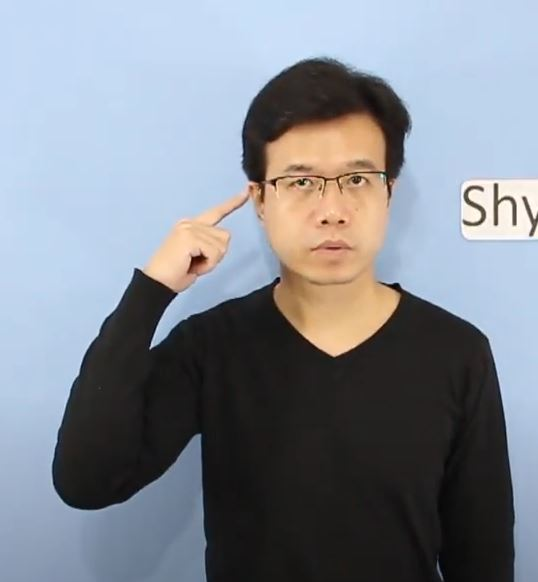ear: (139, 180, 269, 298)
